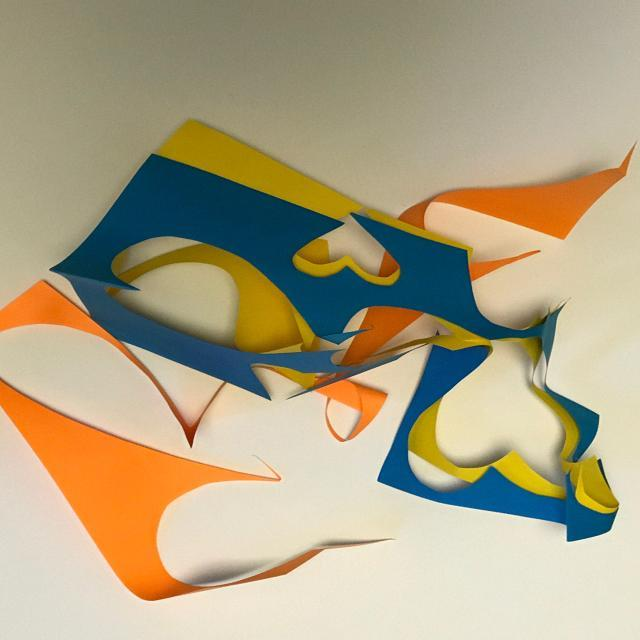paper: (1, 114, 640, 601)
